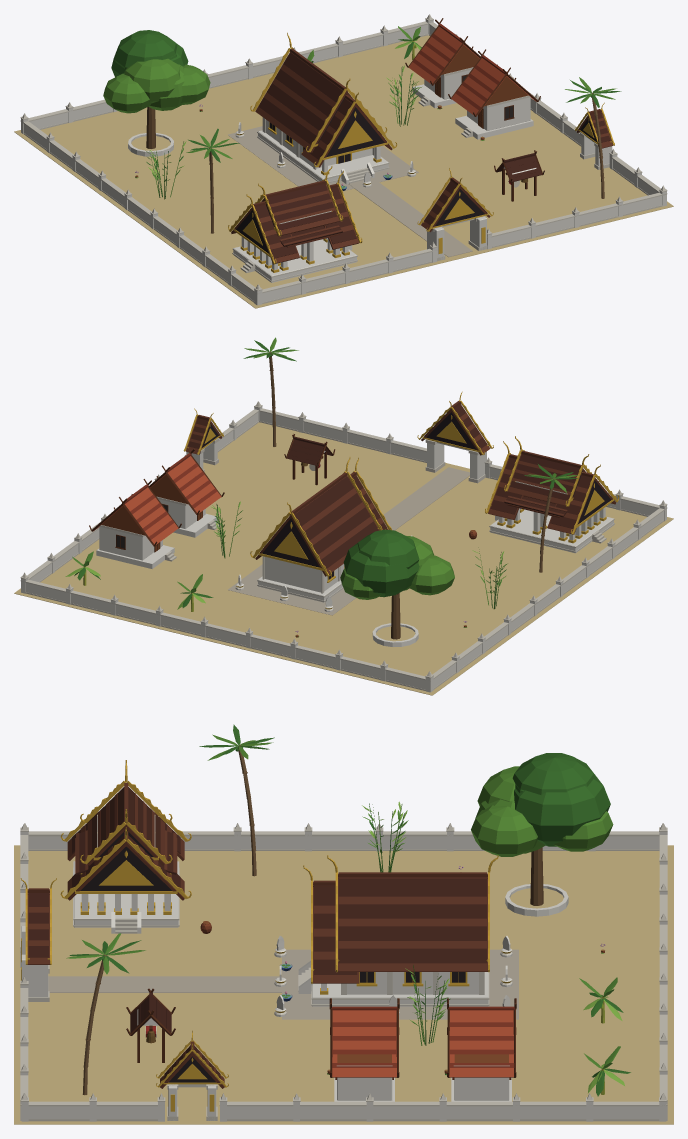
Rendered from temple_1.glb.
3 views of the same model, one above another, from view 1: azimuth 30°, elevation 25°; view 2: azimuth 150°, elevation 25°; view 3: azimuth 270°, elevation 25° (orthographic). The views are drawn at different scales.
Parts seen in each view (by area): view 1: body; view 2: body; view 3: body.
Part boxes in pixels (x1,y1,x2,y2): body: (14, 14, 673, 308); body: (14, 337, 673, 695); body: (14, 724, 673, 1124).
Bounding box in the file's own units: 47.9 × 12.13 × 47.9.
